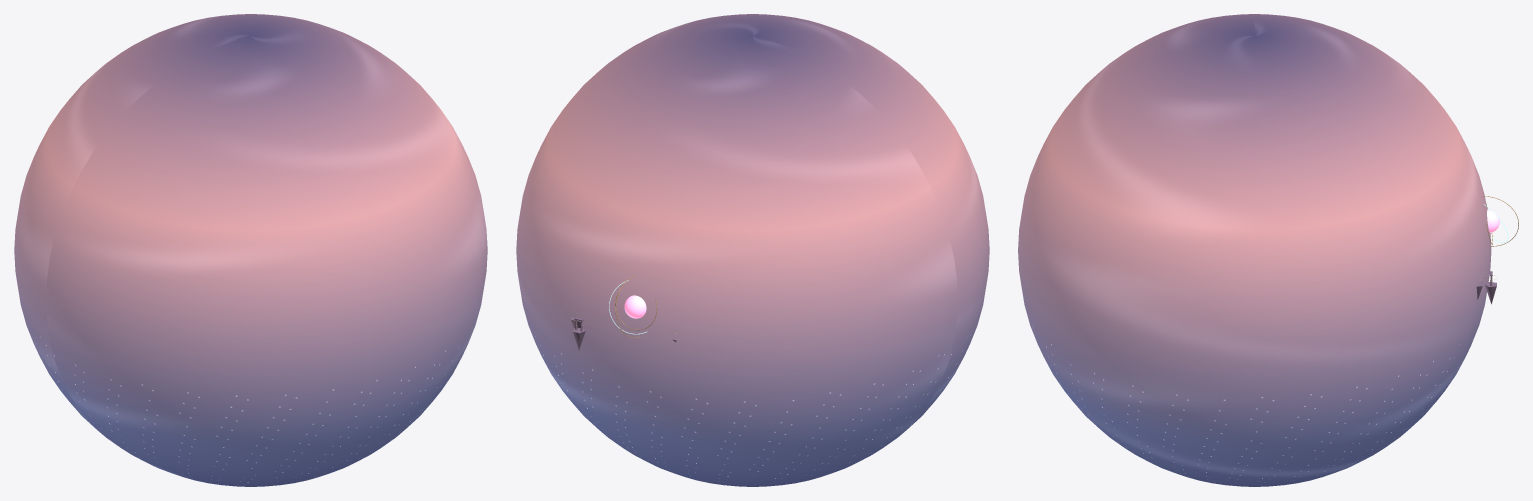
3 renders of one model, left to right at view 1: azimuth 30°, elevation 25°; view 2: azimuth 150°, elevation 25°; view 3: azimuth 270°, elevation 25°, orthographic.
Visible parts, largest first — view 1: Sky vault; view 2: Sky vault; view 3: Sky vault.
Part boxes in pixels (bbox=[...]): Sky vault: bbox=[14, 14, 487, 486]; Sky vault: bbox=[516, 14, 989, 486]; Sky vault: bbox=[1018, 14, 1491, 486].
Bounding box in the file's own units: 280 × 280 × 296.
7 materials, 2 textured.
